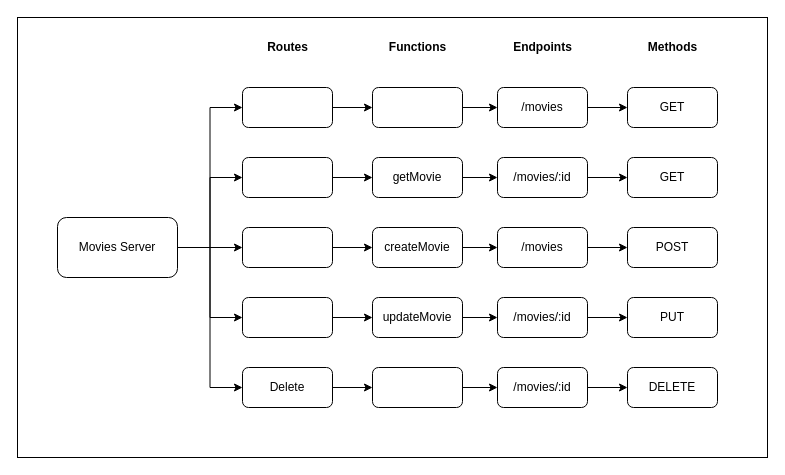
The diagram is 785 pixels wide and 475 high, and some of its shapes have lost their labels. Here are the shapes that lost their labels. From the top down, the centre of each, then its label:
At pixel 287 107: "Get All".
At pixel 417 107: "getMovies".
At pixel 287 177: "Get By ID".
At pixel 287 247: "Create".
At pixel 287 317: "Update".
At pixel 417 387: "deleteMovie".
